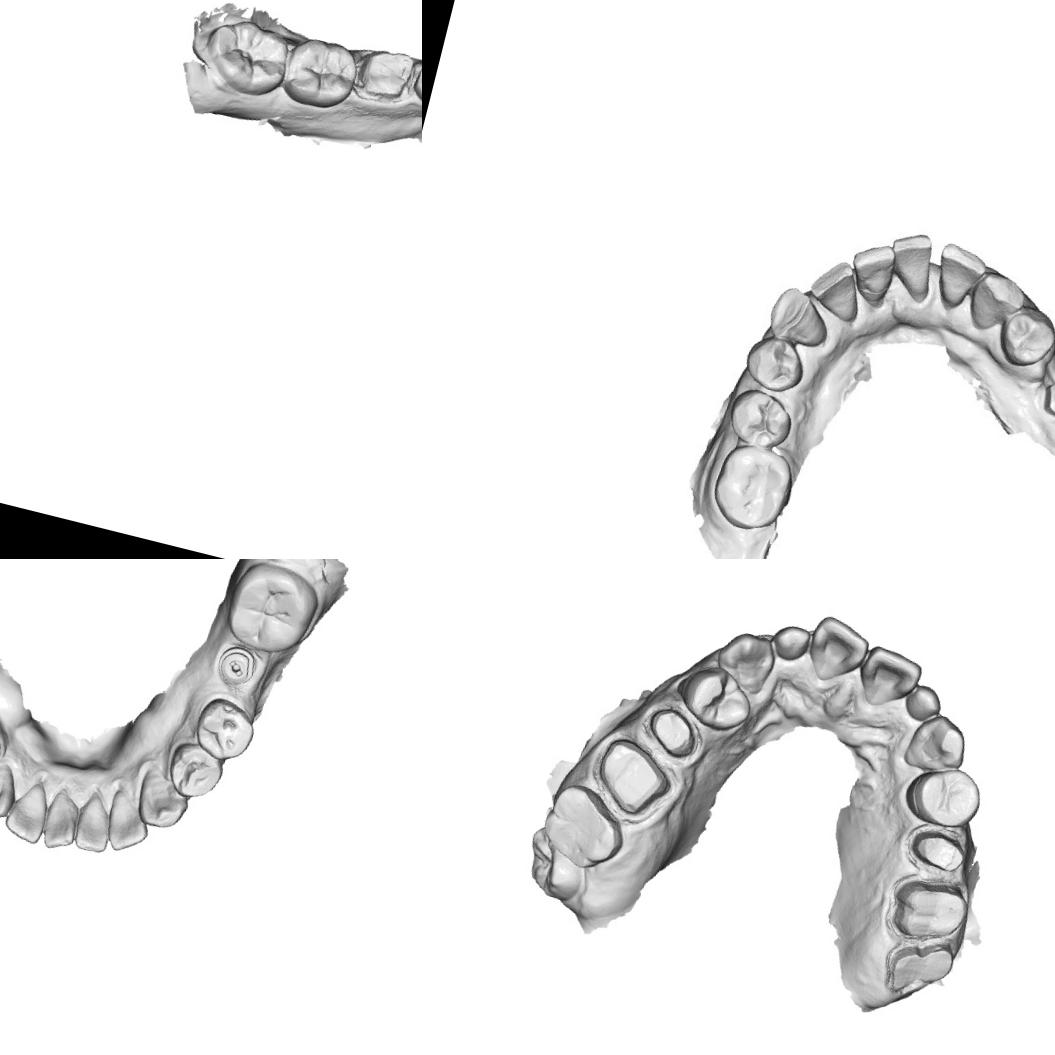canine: (761, 280, 837, 353), (960, 266, 1032, 340), (900, 706, 974, 778), (710, 625, 780, 699), (130, 762, 196, 834), (0, 753, 21, 824)
crown: (580, 729, 682, 825), (881, 866, 972, 953), (636, 696, 709, 765), (899, 816, 973, 880), (350, 42, 416, 106)
implant_minus: (210, 640, 260, 691)
implant_plus: (1037, 374, 1055, 422)
incisor: (850, 640, 926, 716), (801, 610, 873, 689), (802, 253, 870, 326), (878, 225, 942, 301), (928, 239, 992, 311), (98, 786, 157, 858), (842, 236, 901, 306), (0, 774, 54, 845), (68, 787, 120, 856), (36, 785, 86, 855), (767, 618, 814, 666), (900, 680, 946, 726)
molar: (218, 559, 325, 662), (532, 776, 636, 878), (196, 10, 298, 103), (706, 437, 796, 536), (278, 31, 363, 116)
premolar: (671, 658, 760, 738), (898, 756, 988, 834), (188, 692, 262, 766), (722, 383, 798, 455), (739, 328, 812, 399), (161, 736, 229, 806), (991, 300, 1055, 374), (409, 51, 422, 113)
